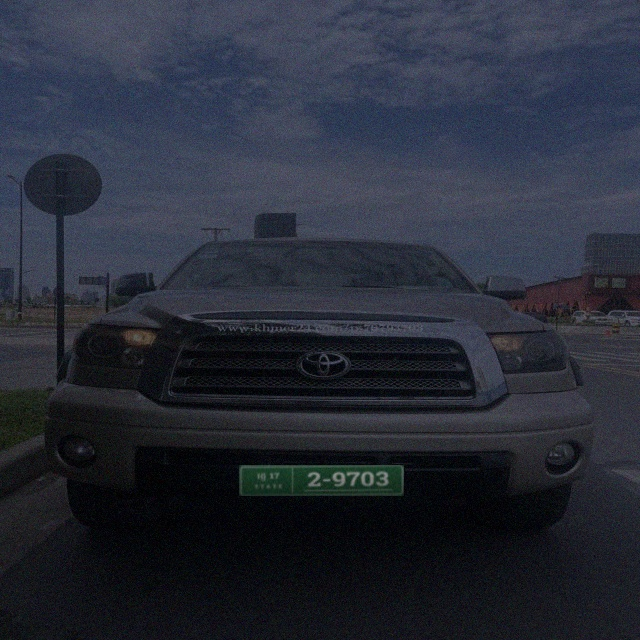Plate Number: (240, 465, 404, 496)
